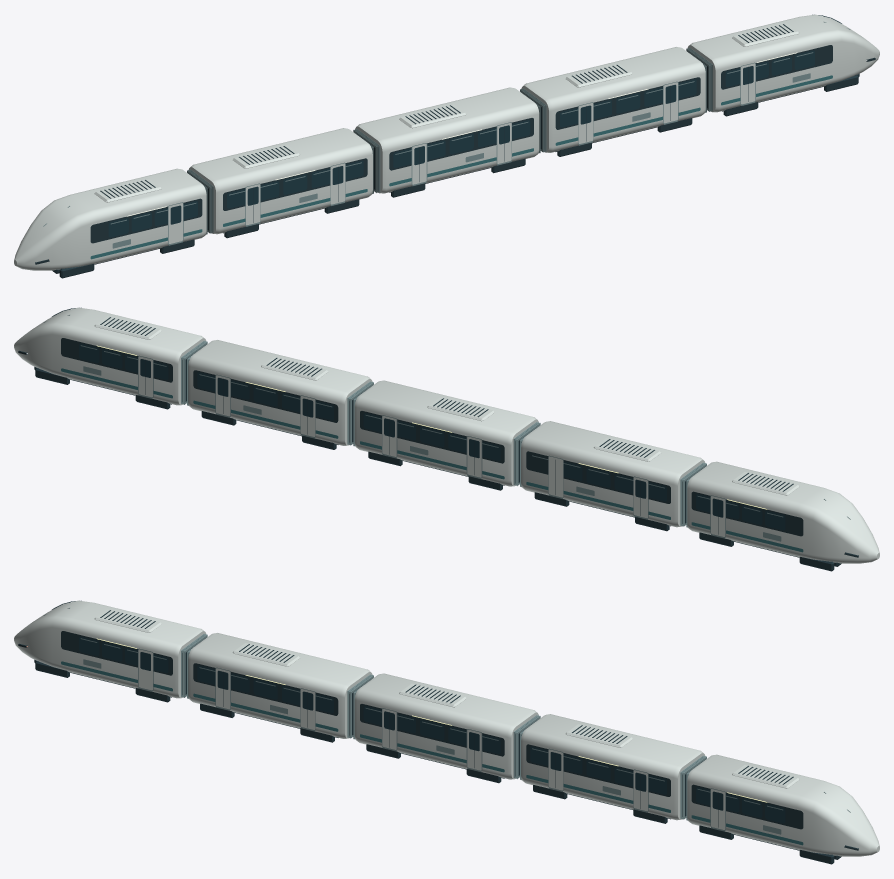
Rendered from future_metro.glb.
3 renders of one model, top to bottom at view 1: azimuth 30°, elevation 25°; view 2: azimuth 150°, elevation 25°; view 3: azimuth 330°, elevation 25°, orthographic.
Parts seen in each view (by area): view 1: MetroCabRear_Metro pearl ceramic, MetroCoach01_Metro pearl ceramic, MetroCoach03_Metro pearl ceramic, MetroCoach02_Metro pearl ceramic, MetroCabFront_Metro pearl ceramic, MetroCoach03_Metro smoked glazing, MetroCoach01_Metro smoked glazing, MetroCoach02_Metro smoked glazing, MetroCabFront_Metro charcoal bellows, MetroCoach01_Metro charcoal bellows, MetroCoach03_Metro charcoal bellows, MetroCoach02_Metro charcoal bellows (+7 smaller); view 2: MetroCabRear_Metro pearl ceramic, MetroCoach03_Metro pearl ceramic, MetroCoach01_Metro pearl ceramic, MetroCoach02_Metro pearl ceramic, MetroCabFront_Metro pearl ceramic, MetroCoach03_Metro charcoal bellows, MetroCoach01_Metro smoked glazing, MetroCoach02_Metro smoked glazing, MetroCabFront_Metro charcoal bellows, MetroCoach01_Metro charcoal bellows, MetroCabRear_Metro charcoal bellows, MetroCoach02_Metro charcoal bellows (+7 smaller); view 3: MetroCabFront_Metro pearl ceramic, MetroCoach01_Metro pearl ceramic, MetroCoach03_Metro pearl ceramic, MetroCoach02_Metro pearl ceramic, MetroCabRear_Metro pearl ceramic, MetroCoach01_Metro smoked glazing, MetroCoach03_Metro smoked glazing, MetroCoach02_Metro smoked glazing, MetroCabRear_Metro charcoal bellows, MetroCabFront_Metro charcoal bellows, MetroCoach03_Metro charcoal bellows, MetroCoach02_Metro charcoal bellows (+7 smaller).
Boxes of the visible parts, x1,y1,x2,y2 form: MetroCabRear_Metro pearl ceramic: (14,168,206,270); MetroCoach01_Metro pearl ceramic: (521,47,705,152); MetroCoach03_Metro pearl ceramic: (188,128,372,234); MetroCoach02_Metro pearl ceramic: (355,87,539,193); MetroCabFront_Metro pearl ceramic: (687,14,879,112); MetroCoach03_Metro smoked glazing: (227,160,363,208); MetroCoach01_Metro smoked glazing: (560,79,696,127); MetroCoach02_Metro smoked glazing: (393,120,530,167); MetroCabFront_Metro charcoal bellows: (688,24,875,116); MetroCoach01_Metro charcoal bellows: (521,65,700,156); MetroCoach03_Metro charcoal bellows: (188,146,372,238); MetroCoach02_Metro charcoal bellows: (355,105,533,197); MetroCabRear_Metro pearl ceramic: (687,461,879,563); MetroCoach03_Metro pearl ceramic: (521,421,705,527); MetroCoach01_Metro pearl ceramic: (188,340,372,445); MetroCoach02_Metro pearl ceramic: (354,380,538,486); MetroCabFront_Metro pearl ceramic: (14,307,206,405); MetroCoach03_Metro charcoal bellows: (521,439,705,531); MetroCoach01_Metro smoked glazing: (197,372,333,420); MetroCoach02_Metro smoked glazing: (363,413,500,460); MetroCabFront_Metro charcoal bellows: (18,317,205,409); MetroCoach01_Metro charcoal bellows: (193,358,372,449); MetroCabRear_Metro charcoal bellows: (691,473,858,571); MetroCoach02_Metro charcoal bellows: (360,398,538,490); MetroCabFront_Metro pearl ceramic: (687,754,879,856); MetroCoach01_Metro pearl ceramic: (521,714,705,820); MetroCoach03_Metro pearl ceramic: (188,633,372,738); MetroCoach02_Metro pearl ceramic: (354,673,538,779); MetroCabRear_Metro pearl ceramic: (14,600,206,698); MetroCoach01_Metro smoked glazing: (530,746,666,794); MetroCoach03_Metro smoked glazing: (197,665,333,713); MetroCoach02_Metro smoked glazing: (363,706,500,753); MetroCabRear_Metro charcoal bellows: (18,610,205,702); MetroCabFront_Metro charcoal bellows: (691,766,858,864); MetroCoach03_Metro charcoal bellows: (193,644,372,742); MetroCoach02_Metro charcoal bellows: (360,684,538,783).
Bounding box in the file's own units: 49 × 3.3 × 2.97.
